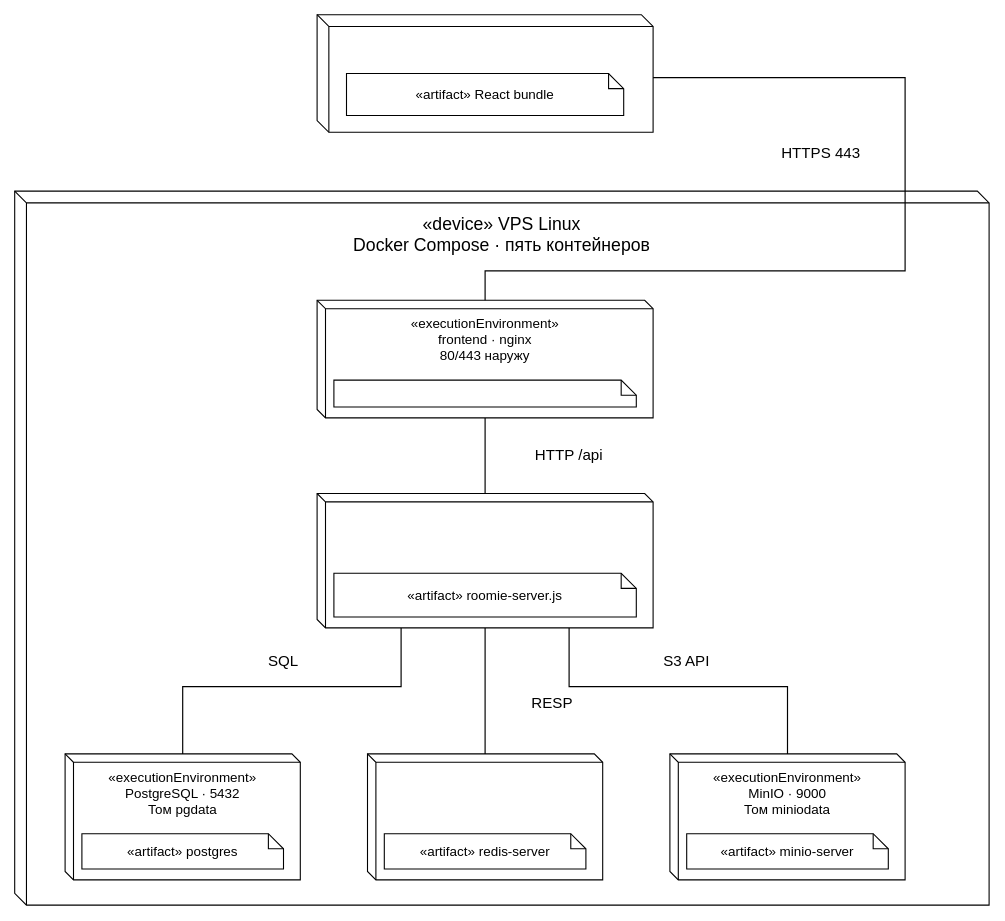
This 1005x921 diagram has some shape labels left out. Each missing label, with the box of its shape:
«artifact» React build и конфигурация nginx: (333, 379, 636, 407)
«device» Устройство пользователя: (316, 14, 653, 132)
«executionEnvironment» backend · Node.js / NestJS REST API и cron-задачи: (316, 493, 653, 628)
«executionEnvironment» Redis · 6379 Том redisdata (AOF/RDB): (367, 753, 603, 880)
